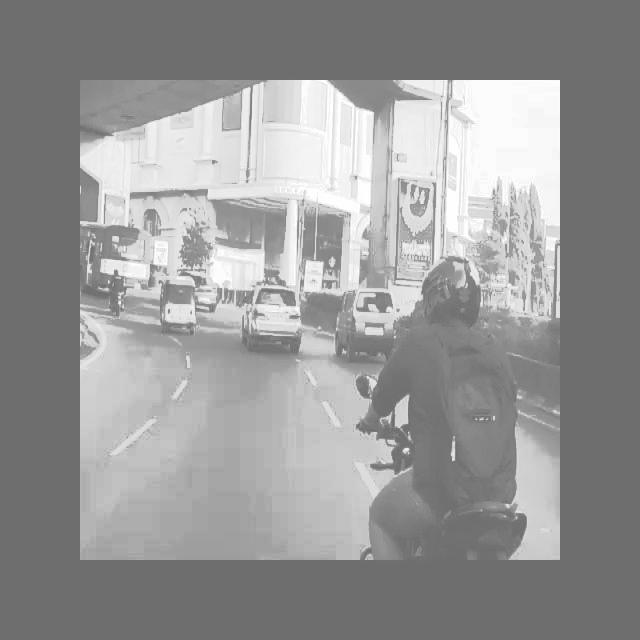Auto-Rickshaw: (155, 278, 202, 338)
Bike: (388, 275, 565, 572)
Car: (239, 272, 312, 362), (331, 275, 395, 373)
